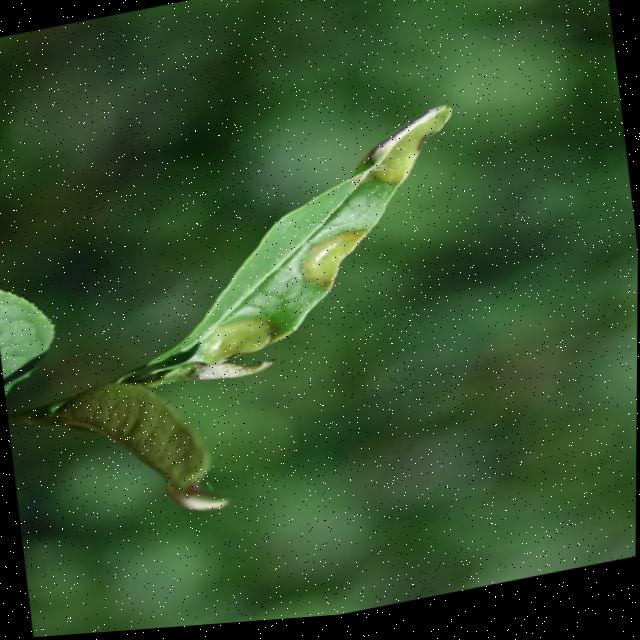Tea cake: (189, 304, 300, 397), (353, 106, 464, 198), (297, 229, 384, 307)
